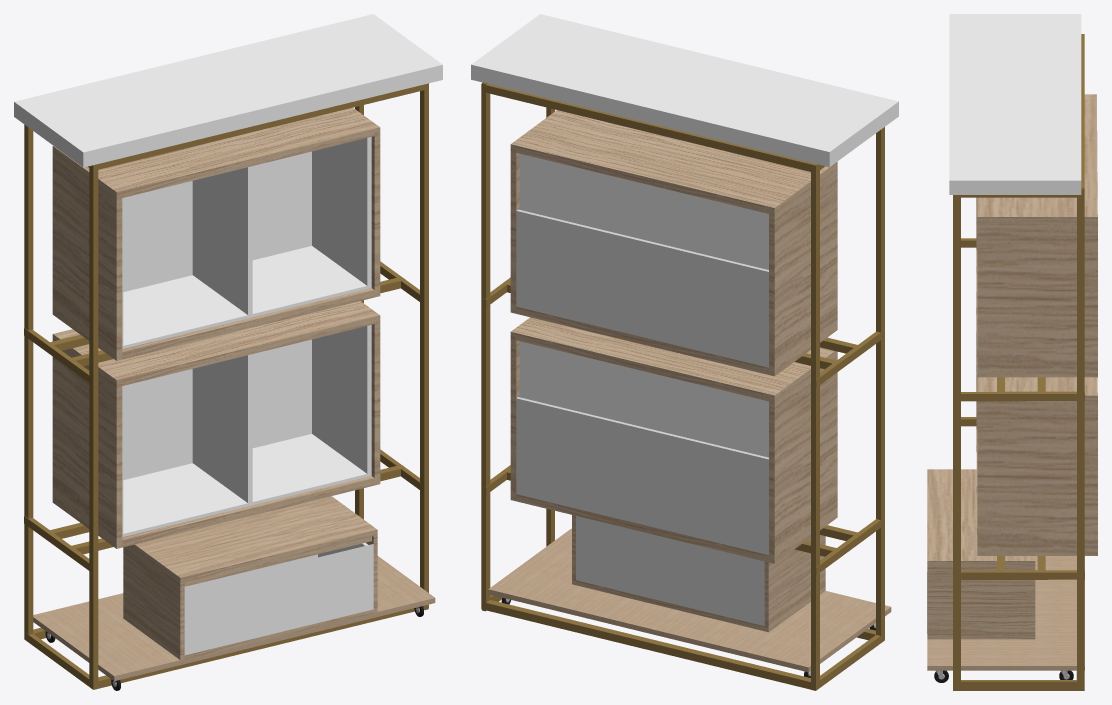
File: uploads_files_1837941_meuble01.fbx
3 renders of one model, left to right at view 1: azimuth 30°, elevation 25°; view 2: azimuth 150°, elevation 25°; view 3: azimuth 270°, elevation 25°, orthographic. The views are drawn at different scales.
Visible parts, largest first — view 1: Component2, Component_79_003, Component_82_005, Component_82_005.2, Component_78_003, Component_78_003.2, Group_013.3, Group_015.2, Group_015, Group_013.2, Component2.2, Group_013 (+19 smaller); view 2: Component2, Group_011.2, Group_011.4, Component2.2, Group_013.2, Component_82_005, Component_82_005.2, Group_011.7, Group_015.2, Group_015, Group_013, Group_012.1 (+13 smaller); view 3: Component2, Group_014.2, Group_014, Component2.2, Group_014.3, Group_013.3, Group_013.2, Group_012.1, Group_001.1, Group_013, Group_011.6, Group_010.2 (+3 smaller).
Part boxes in pixels (bbox=[...]): Component2: bbox=[14, 14, 442, 167]; Component_79_003: bbox=[184, 544, 373, 655]; Component_82_005: bbox=[123, 339, 311, 479]; Component_82_005.2: bbox=[123, 151, 311, 291]; Component_78_003: bbox=[123, 434, 370, 536]; Component_78_003.2: bbox=[123, 246, 370, 348]; Group_013.3: bbox=[129, 496, 377, 583]; Group_015.2: bbox=[52, 153, 122, 360]; Group_015: bbox=[52, 350, 122, 548]; Group_013.2: bbox=[52, 107, 380, 199]; Component2.2: bbox=[33, 556, 435, 681]; Group_013: bbox=[52, 301, 380, 387]; Component2: bbox=[471, 14, 898, 166]; Group_011.2: bbox=[516, 397, 768, 555]; Group_011.4: bbox=[516, 209, 768, 367]; Component2.2: bbox=[488, 528, 891, 672]; Group_013.2: bbox=[510, 110, 837, 215]; Component_82_005: bbox=[519, 341, 768, 457]; Component_82_005.2: bbox=[519, 154, 768, 269]; Group_011.7: bbox=[576, 516, 764, 625]; Group_015.2: bbox=[769, 168, 837, 376]; Group_015: bbox=[769, 357, 837, 563]; Group_013: bbox=[511, 317, 837, 402]; Group_012.1: bbox=[481, 83, 490, 610]; Component2: bbox=[949, 14, 1081, 194]; Group_014.2: bbox=[977, 217, 1097, 377]; Group_014: bbox=[977, 396, 1097, 555]; Component2.2: bbox=[927, 556, 1084, 670]; Group_014.3: bbox=[927, 566, 1035, 639]; Group_013.3: bbox=[927, 469, 1035, 566]; Group_013.2: bbox=[977, 94, 1097, 223]; Group_012.1: bbox=[1077, 189, 1084, 690]; Group_001.1: bbox=[953, 195, 960, 690]; Group_013: bbox=[976, 274, 1097, 402]; Group_011.6: bbox=[953, 680, 1084, 690]; Group_010.2: bbox=[961, 391, 1084, 401].
Bounding box in the file's own units: 149 × 216 × 64.68.
83 materials, 14 textured.
